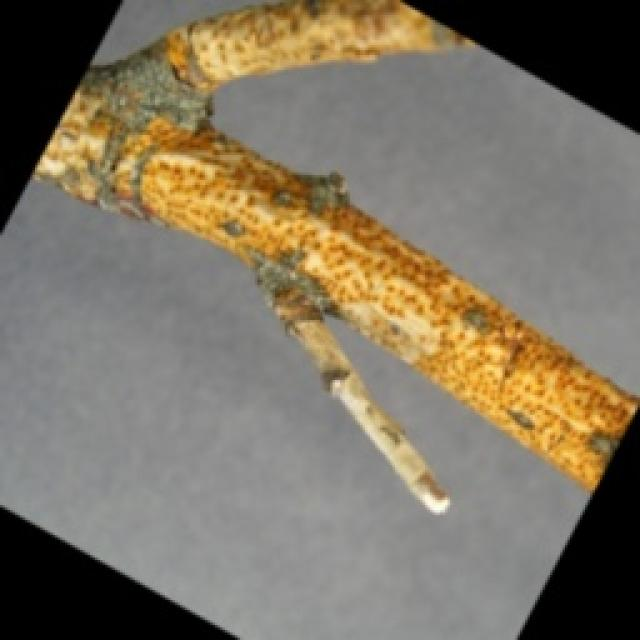Golden_canker: (29, 4, 632, 522)
